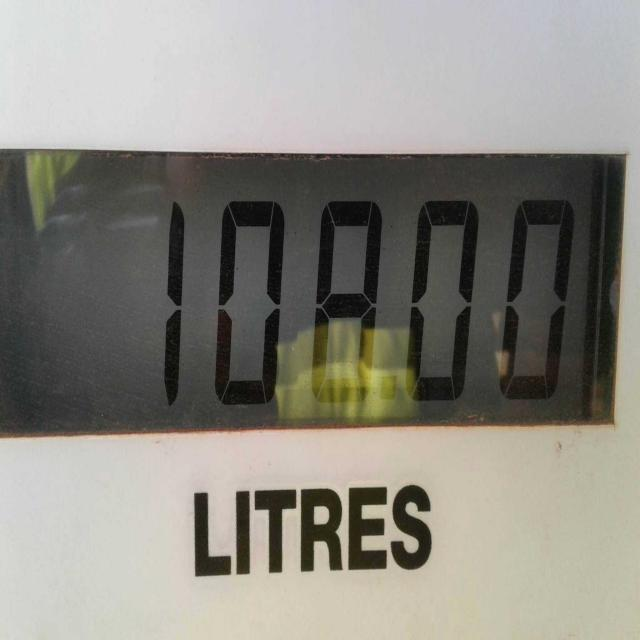.: (374, 361, 404, 433)
0: (492, 183, 592, 426), (204, 185, 298, 413), (399, 176, 489, 413)
1: (144, 166, 208, 418)
8: (301, 191, 390, 426)
